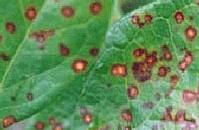Tomato Septoria leaf spot: (8, 0, 199, 130), (0, 0, 135, 130)
